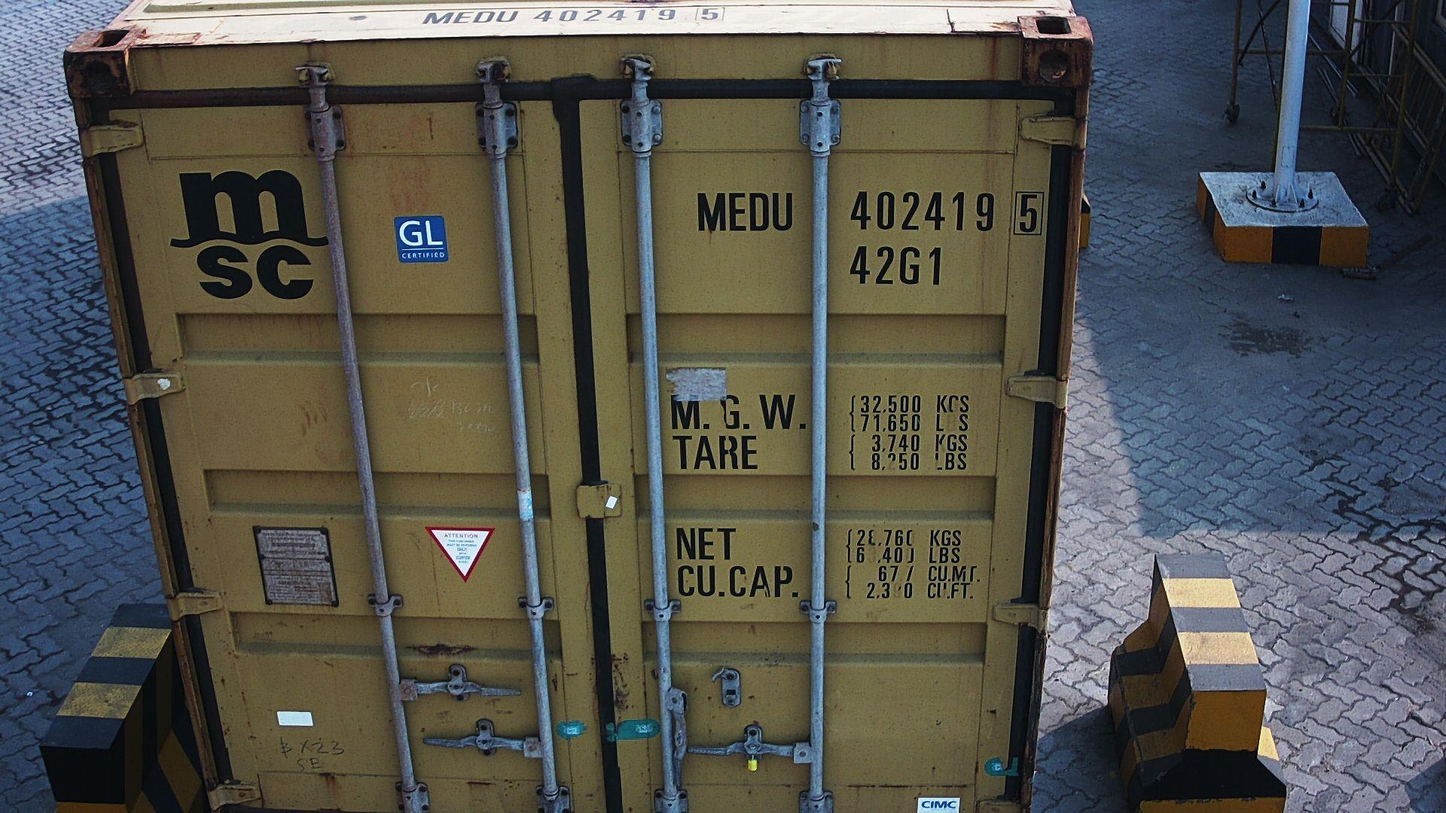container-numbers: (691, 186, 1051, 240), (421, 4, 731, 26), (845, 242, 946, 288)
